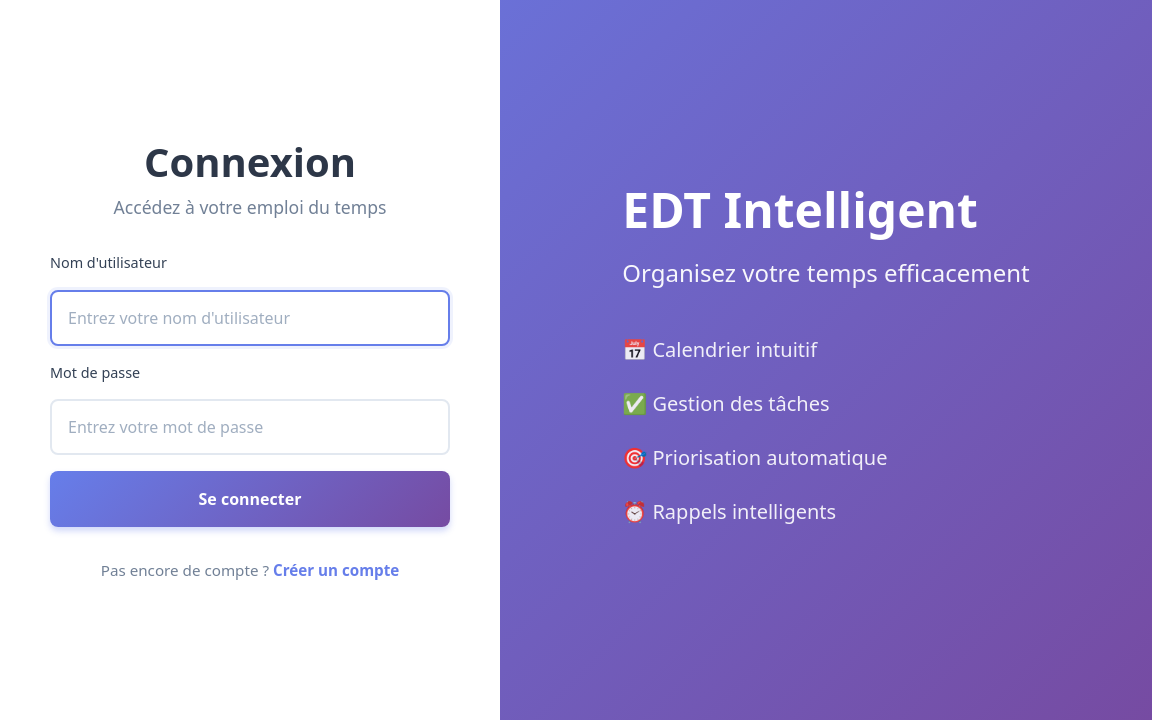
Test: LoginPage › affiche une erreur si les identifiants sont incorrects
This screenshot has width=1152, height=720.
In the field labelled "Nom d'utilisateur": point(250, 318) [50,290,450,346], type "wrong"
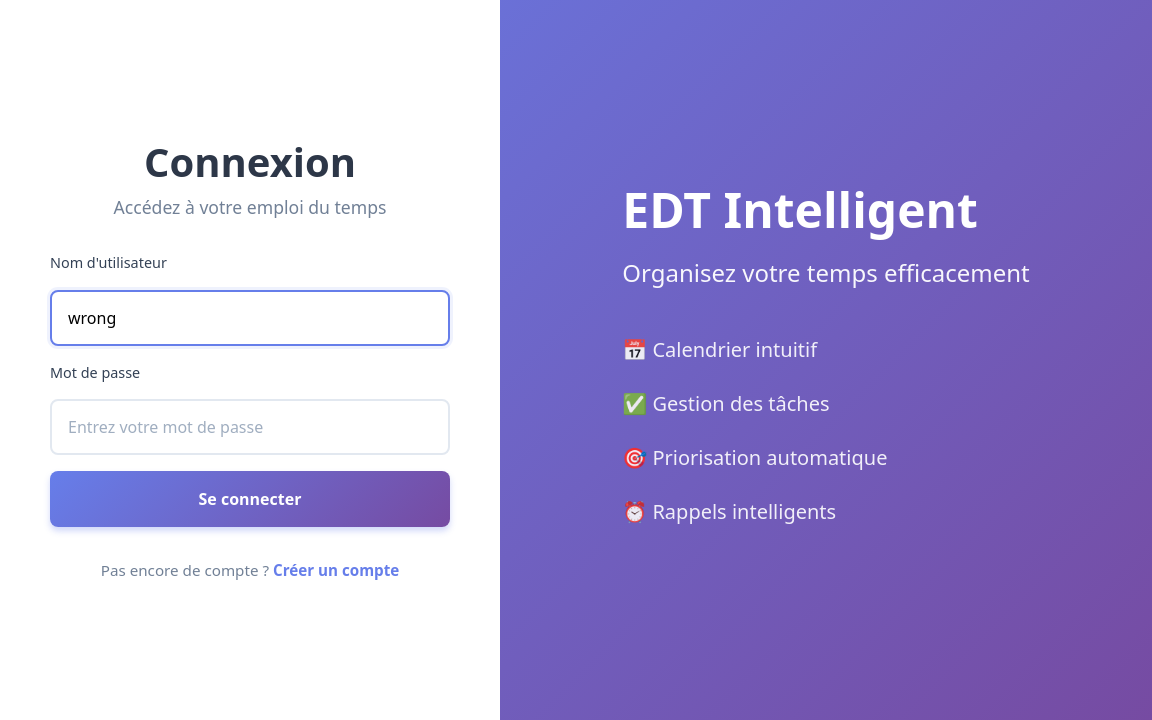
In the password field labelled "Mot de passe": point(250, 427) [50,399,450,455], type "wrong"
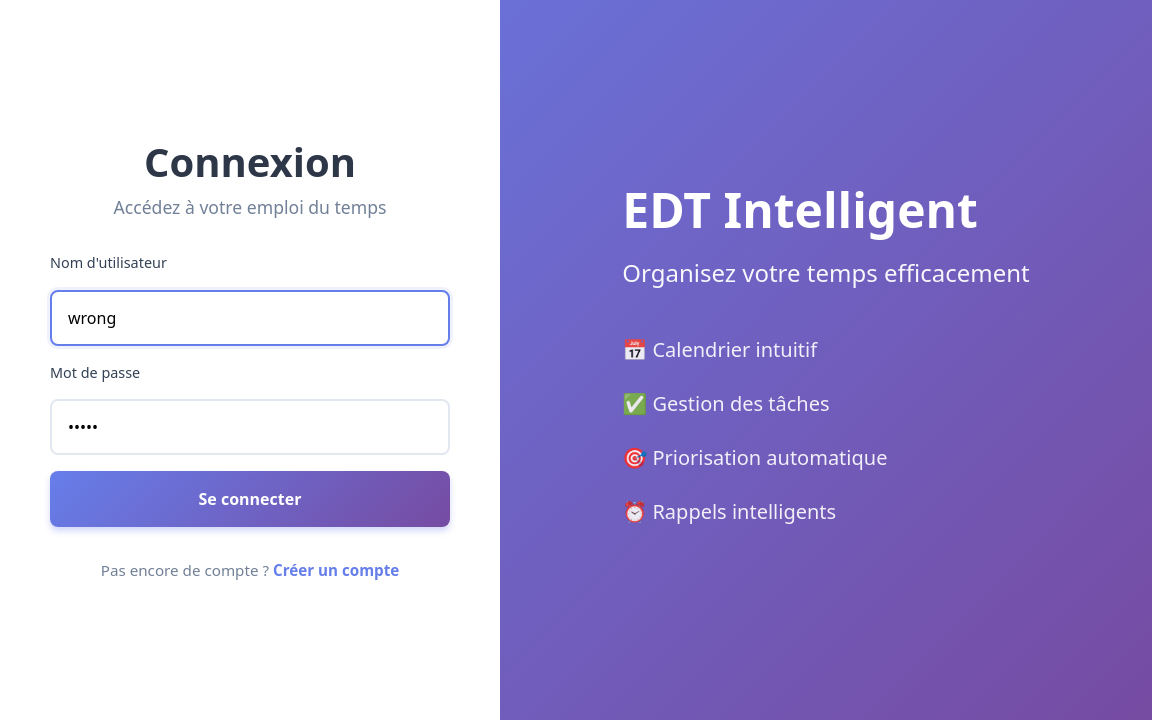
Click the button "Se connecter": point(250, 499) [50,471,450,527]
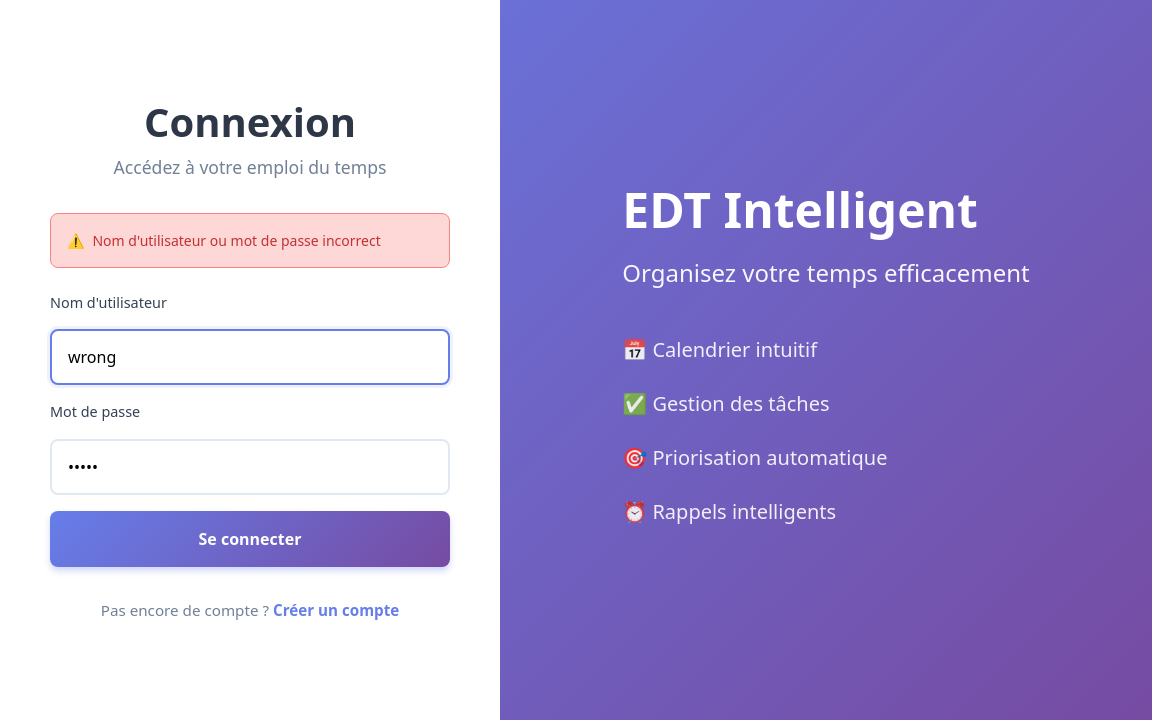
Expected: the text "⚠️ Nom d'utilisateur ou mot de passe incorrect" is shown, [50,213,450,268]
